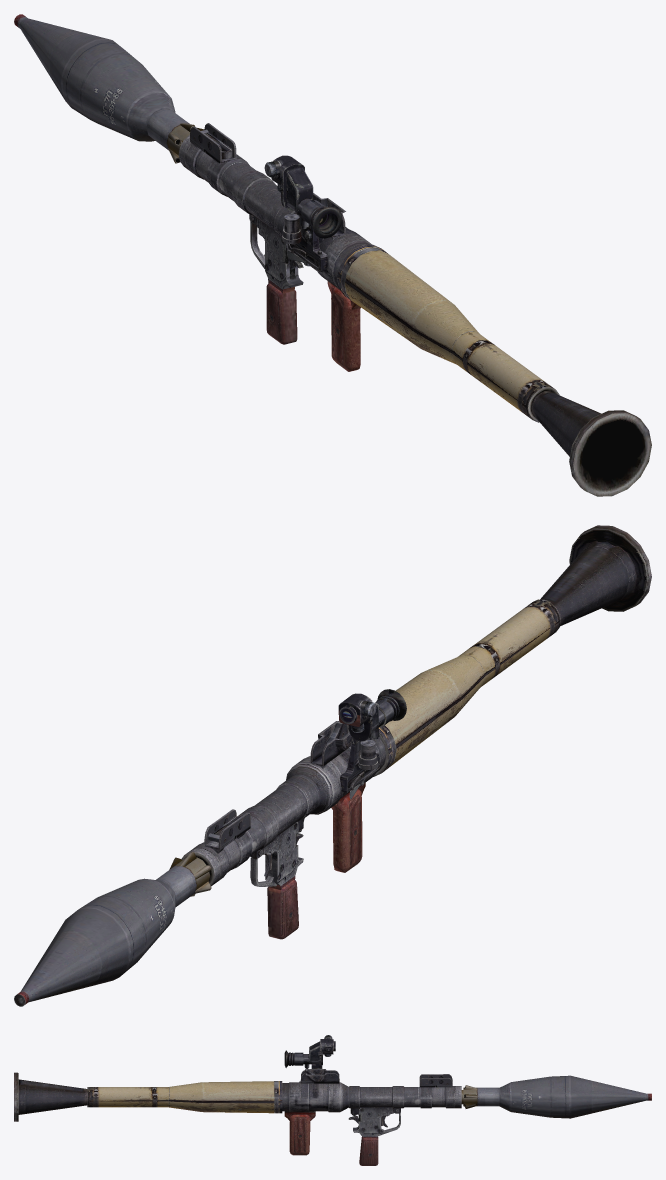
Rendered from wpn_rpg7_1.fbx.
The picture shows the model from 3 angles, top to bottom: view 1: azimuth 30°, elevation 25°; view 2: azimuth 150°, elevation 25°; view 3: azimuth 270°, elevation 25°; orthographic projection. The views are drawn at different scales.
Visible parts, largest first — view 1: wpn_rpg7, Granade; view 2: wpn_rpg7, Granade; view 3: wpn_rpg7, Granade.
Part boxes in pixels (x1,y1,x2,y2): wpn_rpg7: [178, 123, 651, 496]; Granade: [14, 14, 204, 163]; wpn_rpg7: [181, 525, 651, 939]; Granade: [14, 851, 211, 1006]; wpn_rpg7: [14, 1035, 461, 1165]; Granade: [461, 1075, 651, 1118].
Size of the model in its own units: 4.9 by 10.98 by 54.75.
Materials: 2 (2 with a texture image).
